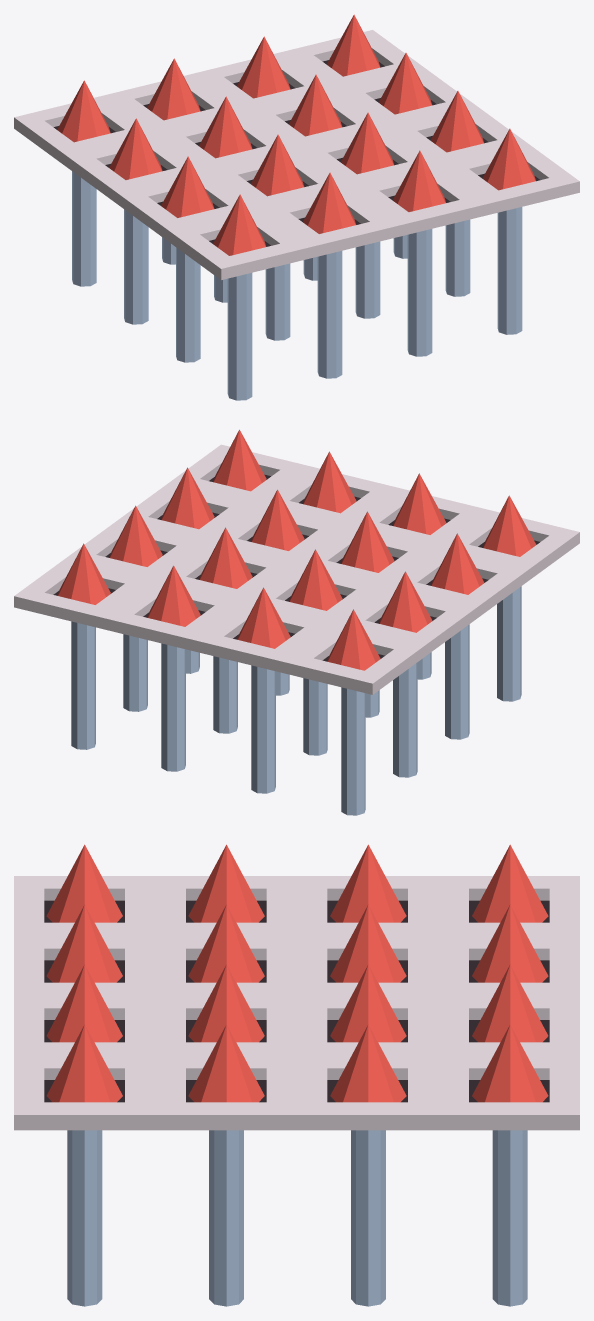
File: Spear.fbx
3 renders of one model, top to bottom at view 1: azimuth 30°, elevation 25°; view 2: azimuth 150°, elevation 25°; view 3: azimuth 270°, elevation 25°, orthographic. The views are drawn at different scales.
Parts seen in each view (by area): view 1: Spears, Spear_Pad; view 2: Spears, Spear_Pad; view 3: Spear_Pad, Spears.
Boxes of the visible parts, left/top/right/bottom form: Spears: left=57, top=14, right=535, bottom=400; Spear_Pad: left=14, top=30, right=579, bottom=280; Spears: left=57, top=429, right=536, bottom=815; Spear_Pad: left=14, top=444, right=579, bottom=694; Spear_Pad: left=14, top=876, right=579, bottom=1130; Spears: left=46, top=844, right=548, bottom=1306.
Size of the model in its own units: 200 by 107 by 200.
